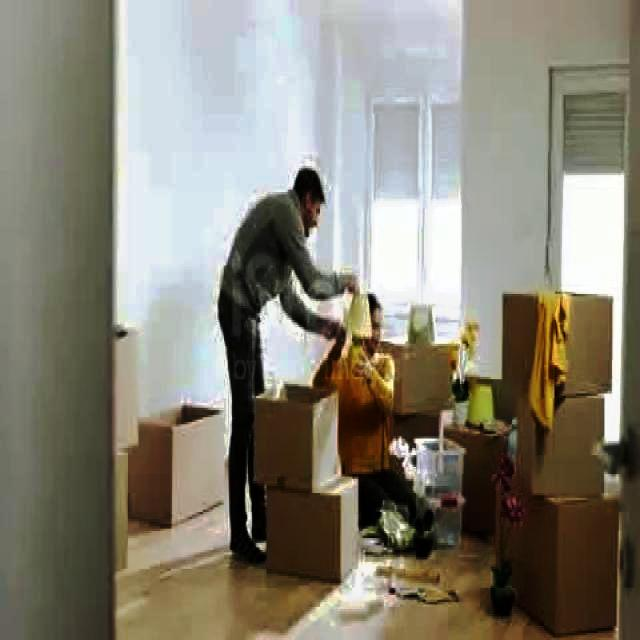Box: (490, 486, 616, 623), (260, 480, 365, 586), (506, 299, 604, 401), (143, 406, 228, 514), (253, 384, 336, 488), (516, 398, 602, 498)
